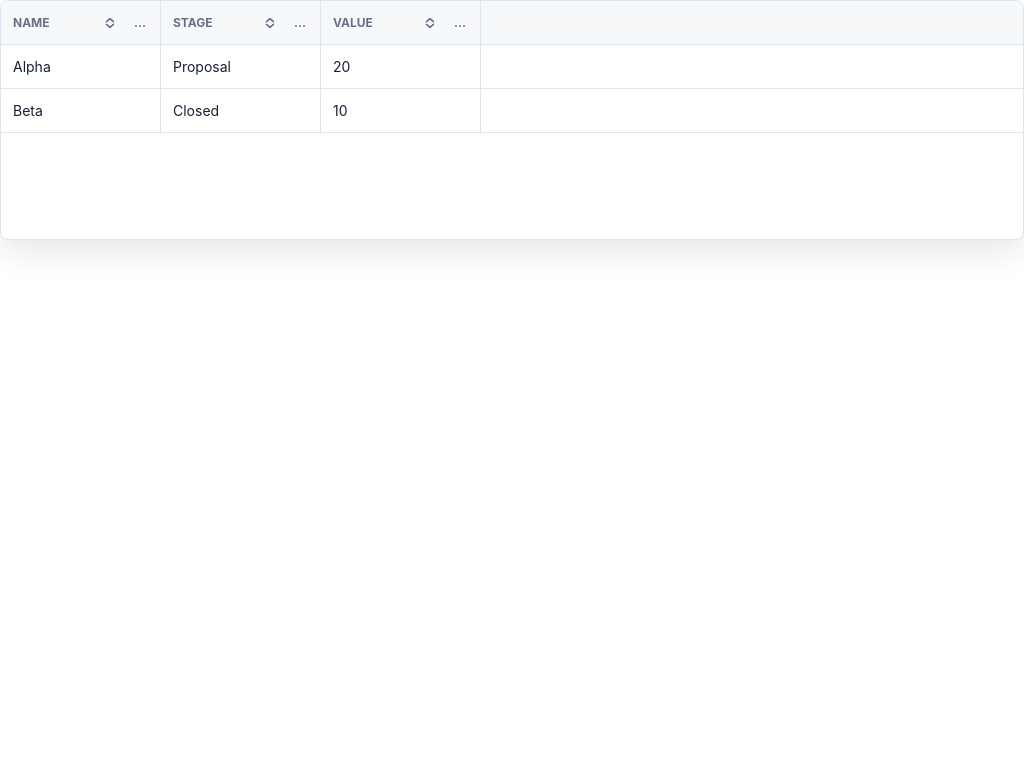
Test: typed column filters › uses direct multi-select enum filters without an operator dropdown
Click the button named "open column actions for stage" at (300, 22), box [288, 10, 312, 34]
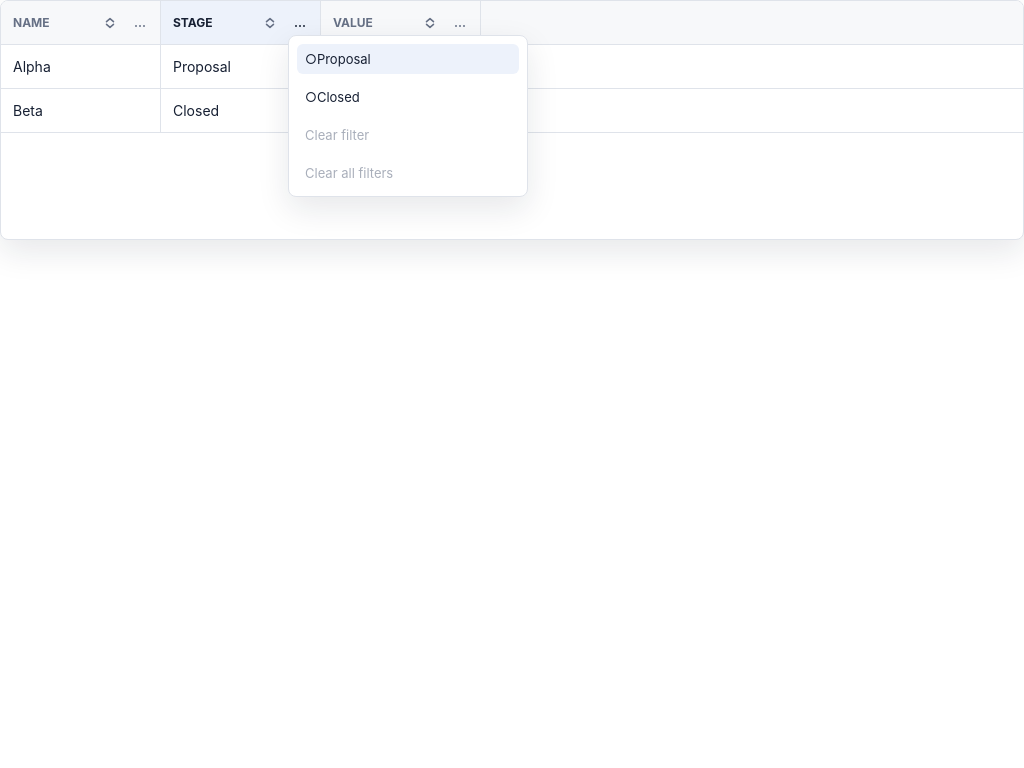
Click the button "○ Proposal" at (408, 58), box [297, 44, 519, 74]
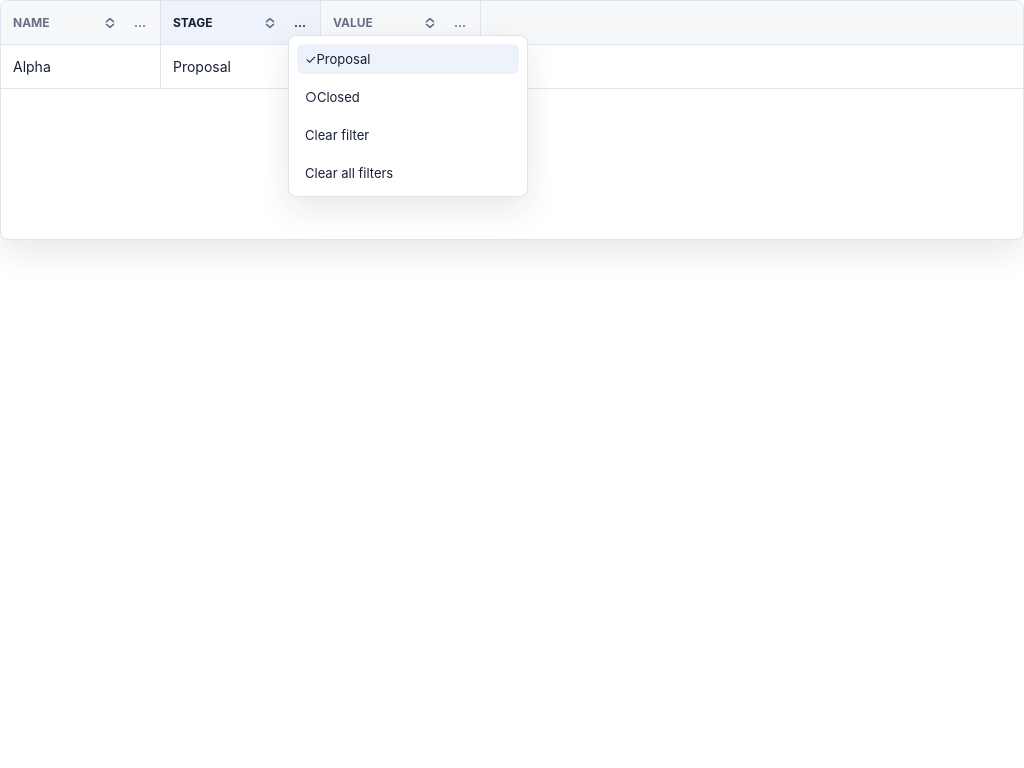
expect the text "Alpha" is shown: met, box [1, 45, 161, 88]
expect the text "Beta" is gone: met
Click the button "○ Closed" at (408, 96), box [297, 82, 519, 112]
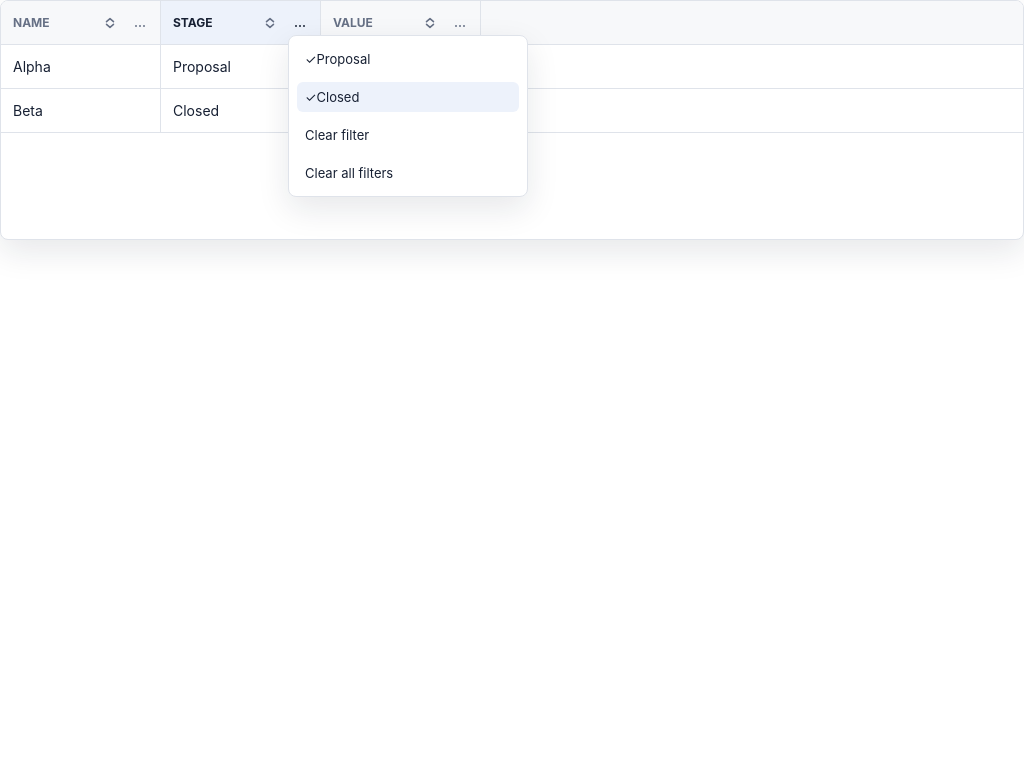
expect the text "Alpha" is shown: met, box [1, 45, 161, 88]
expect the text "Beta" is shown: met, box [1, 89, 161, 132]
Click the button "✓ Proposal" at (408, 58), box [297, 44, 519, 74]
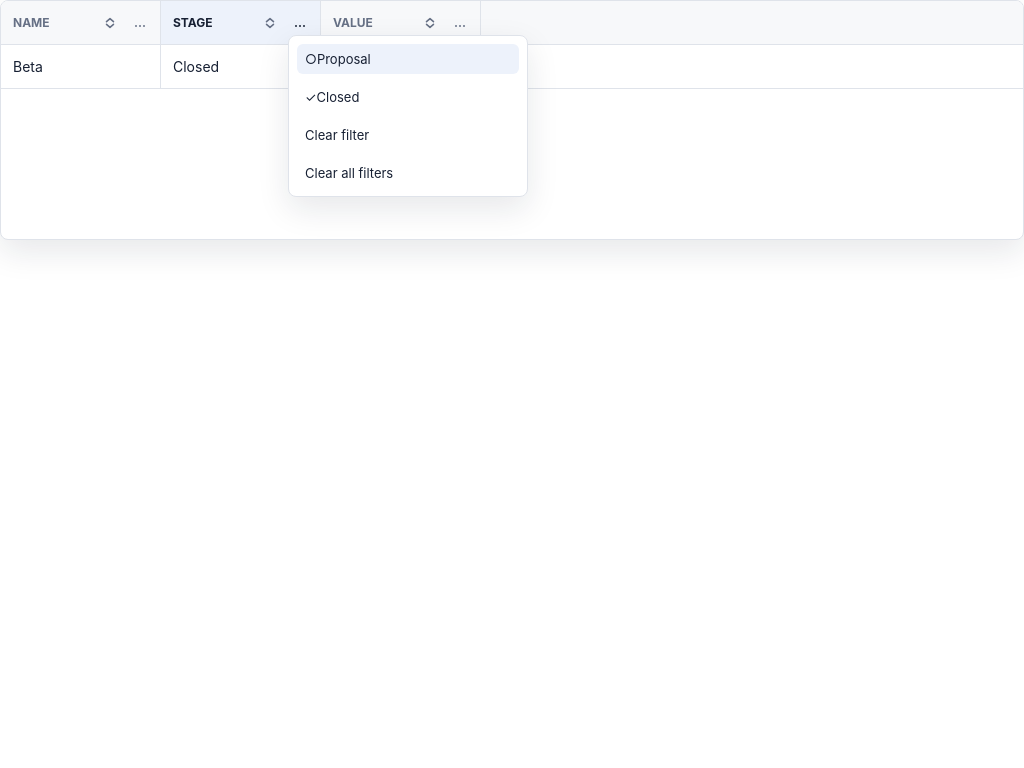
expect the text "Beta" is shown: met, box [1, 45, 161, 88]
expect the text "Alpha" is gone: met
Click the button "✓ Closed" at (408, 96), box [297, 82, 519, 112]
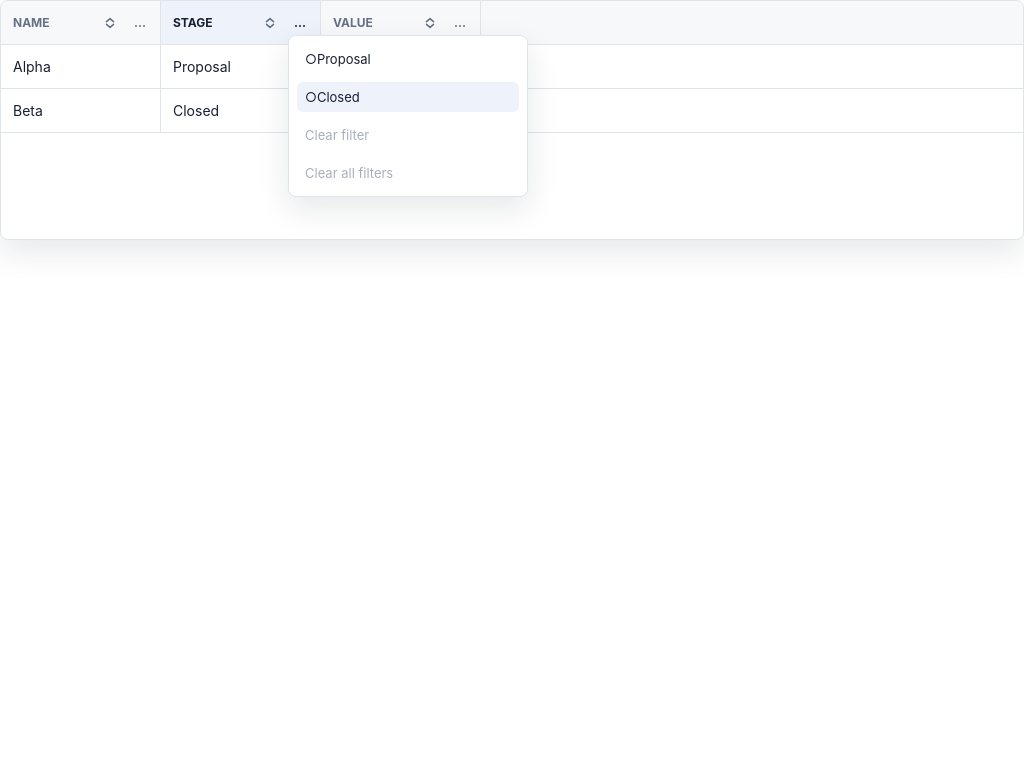
expect the text "Beta" is shown: met, box [1, 89, 161, 132]
expect the text "Alpha" is shown: met, box [1, 45, 161, 88]
